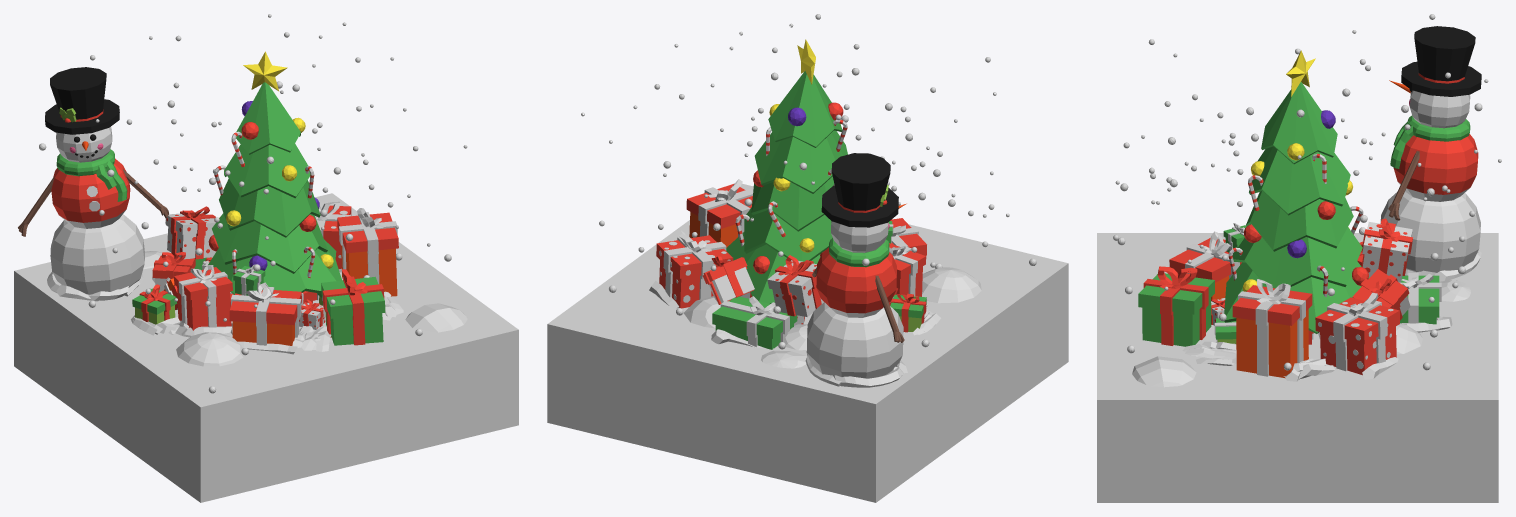
Rendered from escenanavidad.glb.
3 renders of one model, left to right at view 1: azimuth 30°, elevation 25°; view 2: azimuth 150°, elevation 25°; view 3: azimuth 270°, elevation 25°, orthographic. The views are drawn at different scales.
Parts seen in each view (by area): view 1: group984652469, group2093051608, group385402332, group1715402553, group1398461394, group226490541, group1825349058, group195235000, group1182067444, group470038334, group1185238801, group784588934 (+9 smaller); view 2: group984652469, group2093051608, group1225141938, group1182067444, group470038334, group535900711, group1715402553, group226490541, group1825349058, group784588934, group1571551701, group2100967039 (+7 smaller); view 3: group984652469, group2093051608, group1715402553, group1225141938, group385402332, group226490541, group1182067444, group1825349058, group470038334, group784588934, group1185238801, group1398461394 (+9 smaller).
Part boxes in pixels (x1,y1,x2,y2): group984652469: (14, 193, 518, 502); group2093051608: (18, 67, 168, 294); group385402332: (321, 269, 385, 345); group1715402553: (337, 208, 398, 296); group1398461394: (229, 282, 301, 345); group226490541: (212, 213, 327, 273); group1825349058: (219, 178, 320, 237); group195235000: (174, 265, 232, 330); group1182067444: (224, 144, 310, 198); group470038334: (236, 82, 300, 154); group1185238801: (208, 239, 342, 294); group784588934: (165, 206, 216, 259); group984652469: (547, 183, 1068, 502); group2093051608: (806, 153, 906, 378); group1225141938: (656, 230, 733, 308); group1182067444: (754, 130, 847, 193); group470038334: (768, 71, 842, 147); group535900711: (712, 296, 797, 349); group1715402553: (686, 179, 753, 247); group226490541: (744, 207, 832, 261); group1825349058: (751, 176, 834, 231); group784588934: (767, 255, 823, 316); group1571551701: (922, 267, 981, 303); group2100967039: (703, 256, 754, 304); group984652469: (1097, 233, 1498, 502); group2093051608: (1380, 26, 1481, 272); group1715402553: (1232, 279, 1312, 378); group1225141938: (1315, 292, 1399, 375); group385402332: (1138, 266, 1214, 346); group226490541: (1232, 227, 1362, 288); group1182067444: (1249, 146, 1350, 215); group1825349058: (1246, 191, 1353, 251); group470038334: (1261, 82, 1337, 164); group784588934: (1361, 218, 1412, 282); group1185238801: (1224, 261, 1369, 333); group1398461394: (1169, 231, 1241, 299).
Size of the model in its own units: 2.01 by 2.01 by 2.
